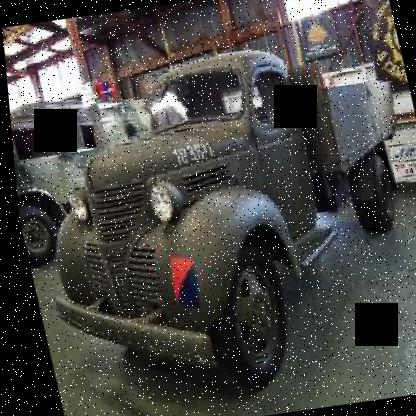not_emergency: (17, 43, 415, 377)
